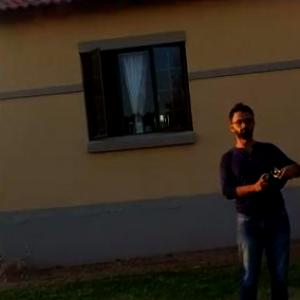follow: (213, 97, 300, 299)
null: (1, 243, 40, 284)
